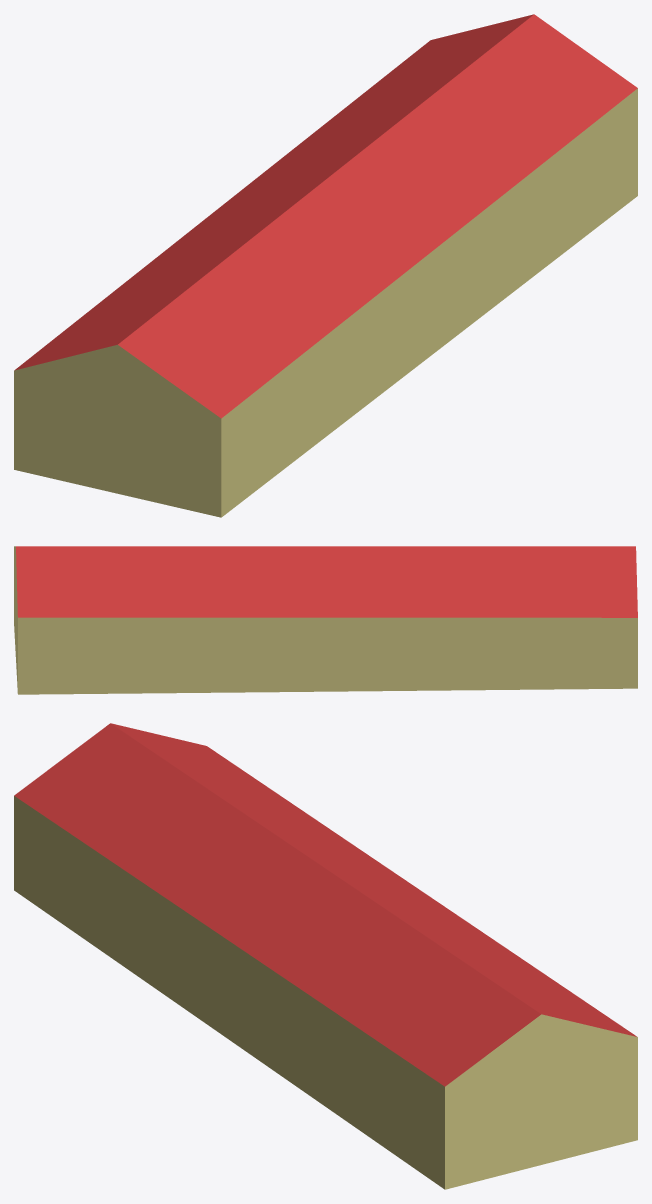
The picture shows the model from 3 angles, top to bottom: view 1: azimuth 30°, elevation 25°; view 2: azimuth 150°, elevation 25°; view 3: azimuth 270°, elevation 25°; orthographic projection. The views are drawn at different scales.
Bounding box in the file's own units: 39.64 × 29.95 × 7.98.
